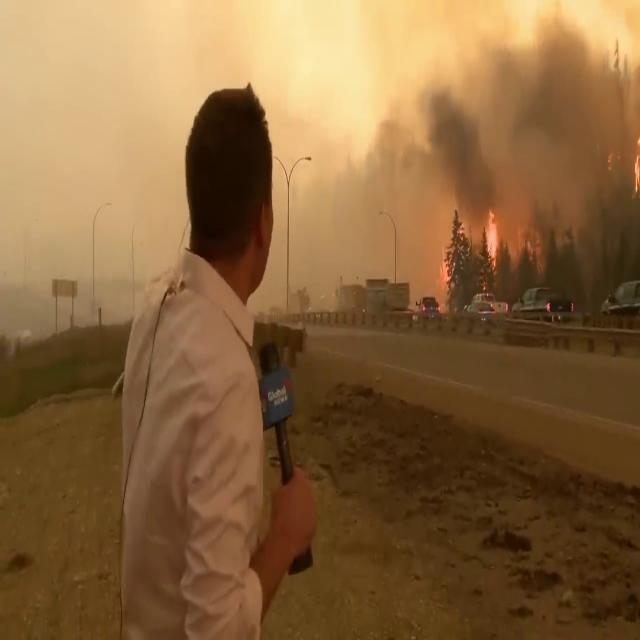Fire: (480, 204, 503, 263)
Smoke: (268, 0, 484, 308), (423, 0, 640, 228)
